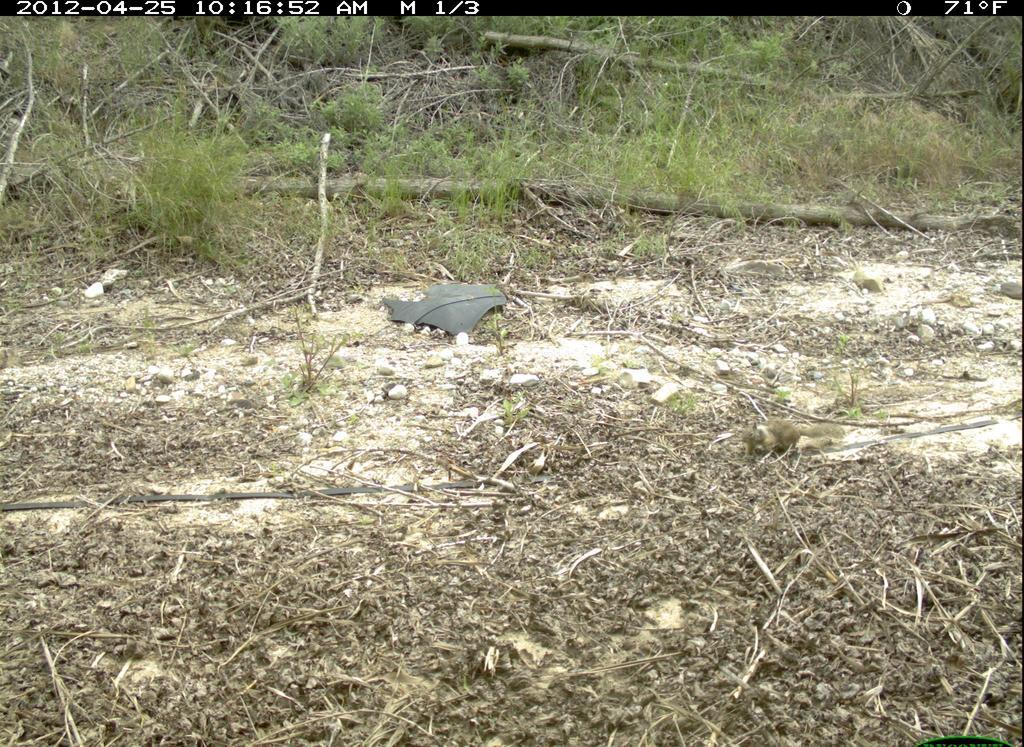squirrel: (734, 409, 852, 466)
